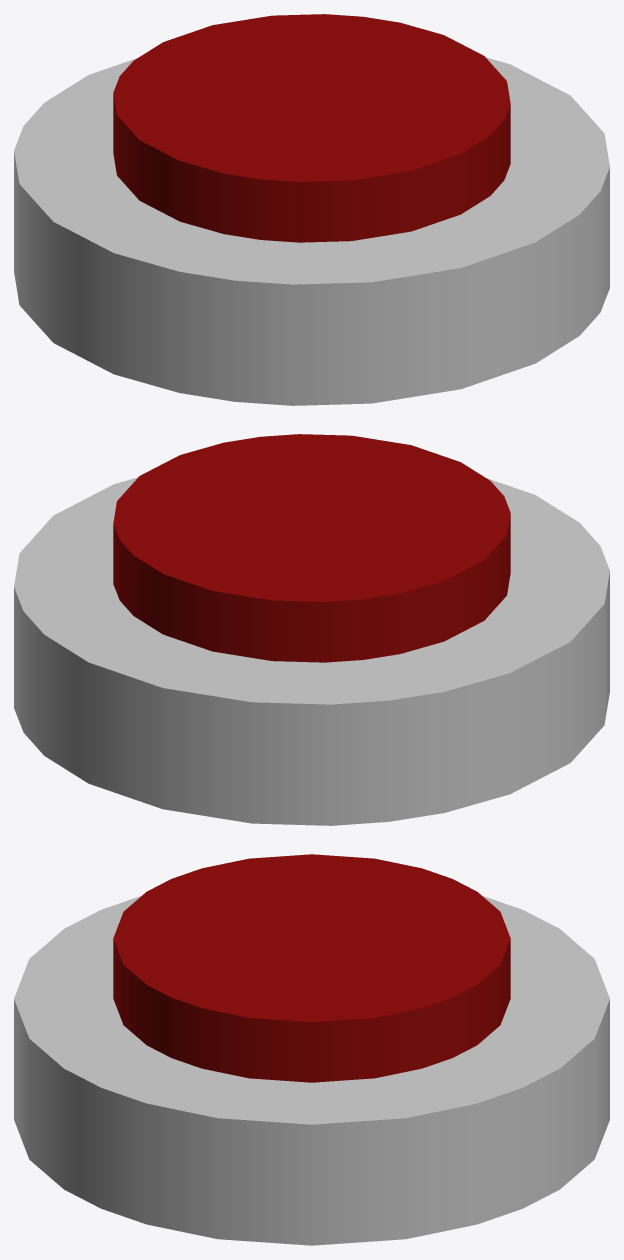
File: button.obj
3 views of the same model, one above another, from view 1: azimuth 30°, elevation 25°; view 2: azimuth 150°, elevation 25°; view 3: azimuth 270°, elevation 25° (orthographic).
Visible parts, largest first — view 1: Part2, Part1; view 2: Part2, Part1; view 3: Part2, Part1.
Part boxes in pixels (box(x1,y1,x2,y2)): Part2: box(14, 57, 609, 405); Part1: box(113, 14, 510, 242); Part2: box(14, 477, 609, 825); Part1: box(113, 434, 510, 662); Part2: box(14, 895, 609, 1245); Part1: box(113, 854, 510, 1082).
Bounding box in the file's own units: 3 × 1.01 × 3.
